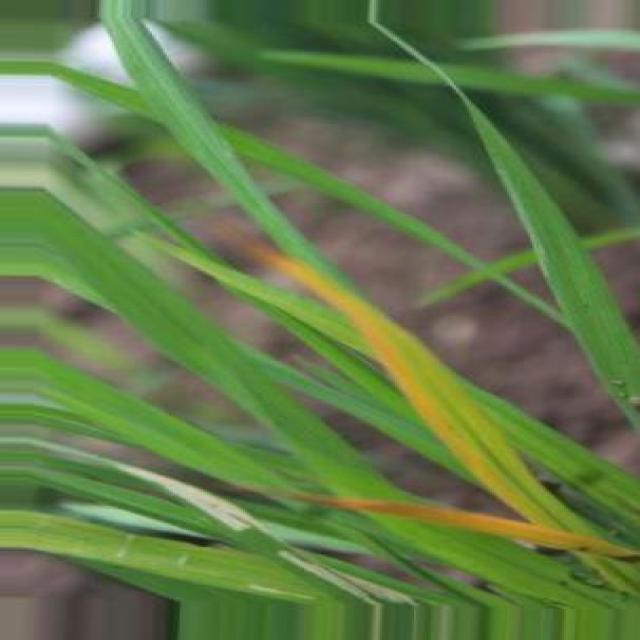Rice Tungro: (263, 251, 588, 532), (292, 496, 638, 558)
